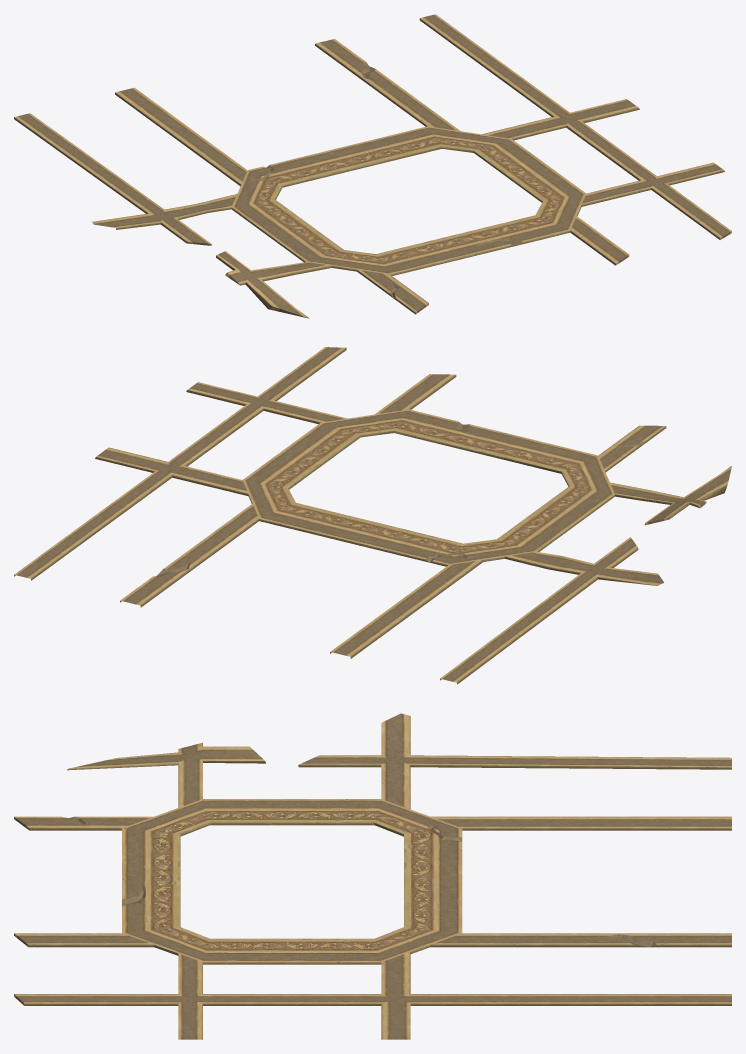
The model's file is Ground06_Terrain_LostTemple_001.FBX.
3 views of the same model, one above another, from view 1: azimuth 30°, elevation 25°; view 2: azimuth 150°, elevation 25°; view 3: azimuth 270°, elevation 25° (orthographic). The views are drawn at different scales.
Parts seen in each view (by area): view 1: Ground06_Terrain_LostTemple_001; view 2: Ground06_Terrain_LostTemple_001; view 3: Ground06_Terrain_LostTemple_001.
Boxes of the visible parts, box(x1,y1,x2,y2) form: Ground06_Terrain_LostTemple_001: box(14, 14, 731, 318); Ground06_Terrain_LostTemple_001: box(14, 347, 731, 684); Ground06_Terrain_LostTemple_001: box(14, 713, 731, 1039).
Size of the model in its own units: 2073 by 55.9 by 2006.
1 material, 1 textured.
